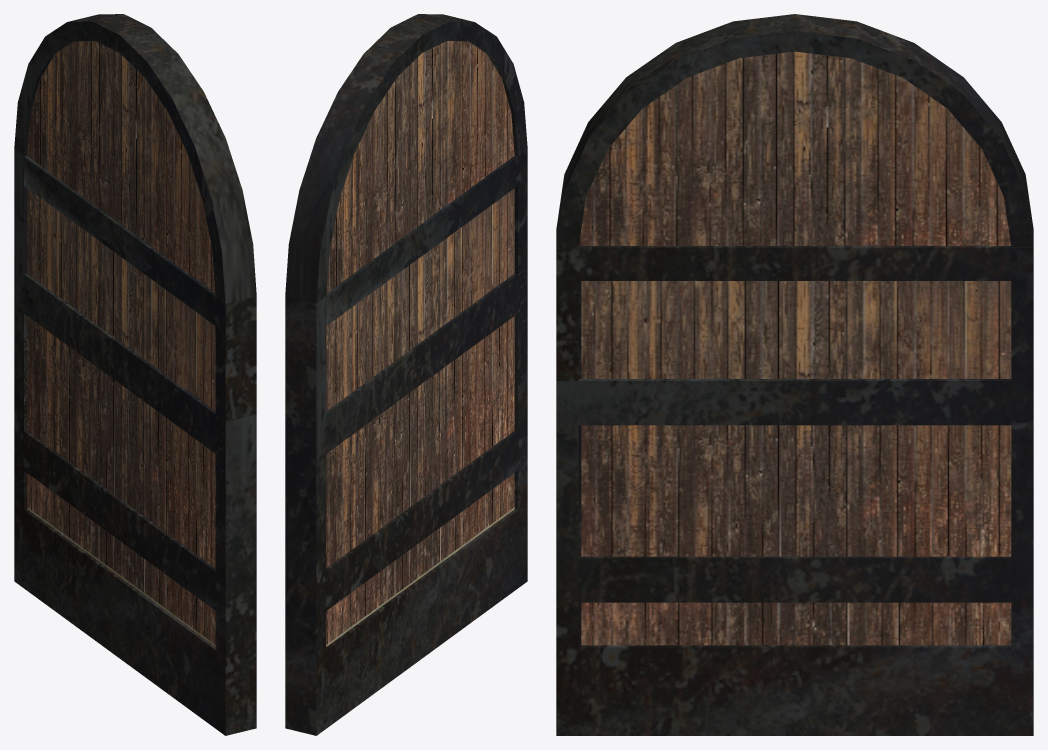
Rendered from zdDoorArchRibbed.fbx.
The picture shows the model from 3 angles, left to right: view 1: azimuth 30°, elevation 25°; view 2: azimuth 150°, elevation 25°; view 3: azimuth 270°, elevation 25°; orthographic projection. The views are drawn at different scales.
Parts seen in each view (by area): view 1: SketchUp; view 2: SketchUp; view 3: SketchUp.
Boxes of the visible parts, bbox=[...] form: SketchUp: bbox=[14, 14, 256, 735]; SketchUp: bbox=[285, 14, 527, 735]; SketchUp: bbox=[556, 14, 1033, 735].
Size of the model in its own units: 0.127 by 2.42 by 1.49.
